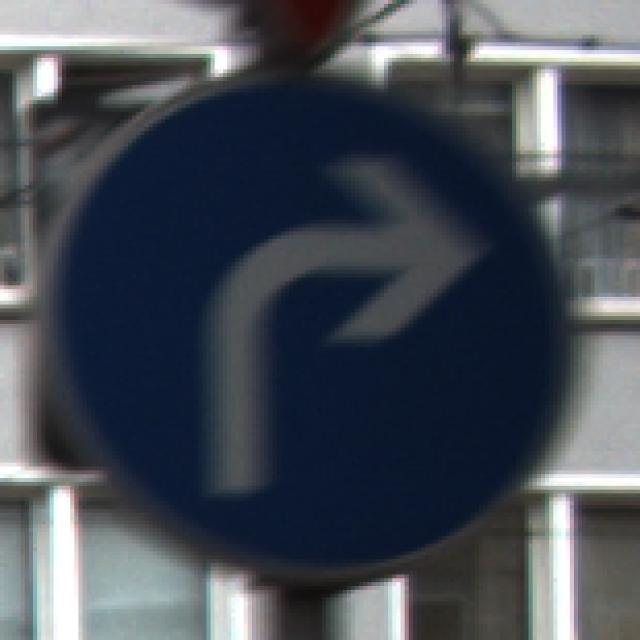compulsary turn right ahead: (22, 60, 583, 582)
